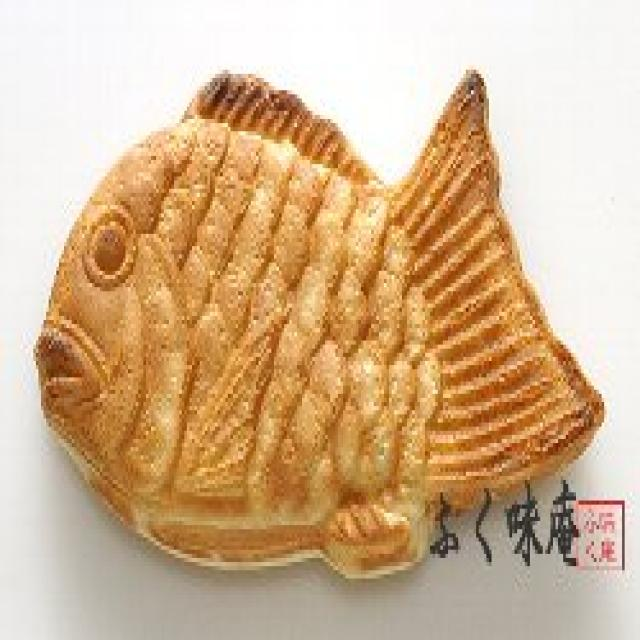熟制海鲜: (26, 66, 604, 574)
